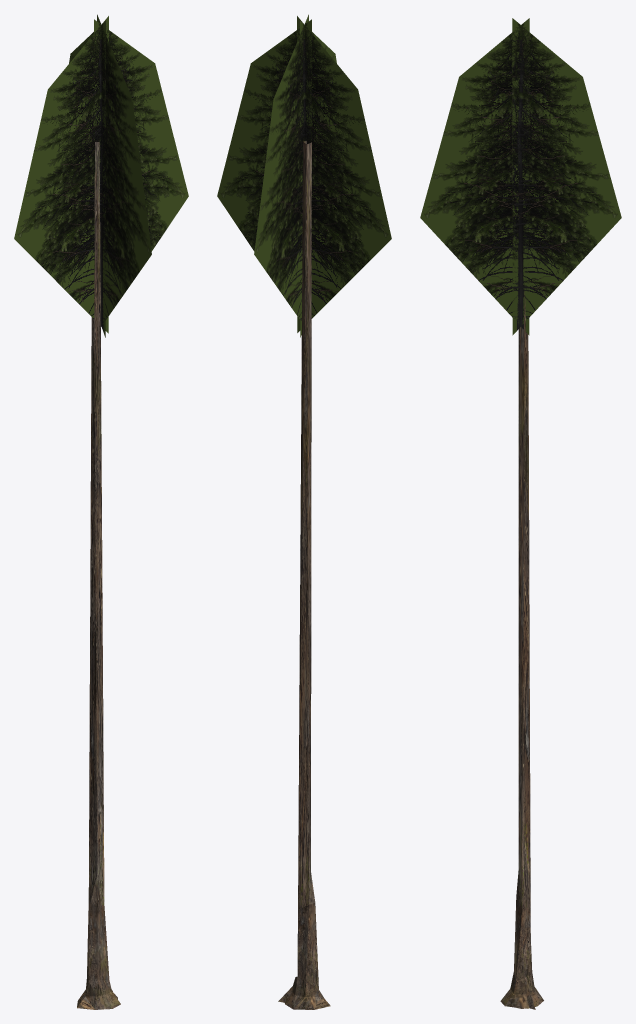
File: spruce_1_lod.dae
3 renders of one model, left to right at view 1: azimuth 30°, elevation 25°; view 2: azimuth 150°, elevation 25°; view 3: azimuth 270°, elevation 25°, orthographic.
Visible parts, largest first — view 1: Mesh_Object; view 2: Mesh_Object; view 3: Mesh_Object.
Part boxes in pixels (x1,y1,x2,y2): Mesh_Object: [14, 14, 188, 1009]; Mesh_Object: [217, 14, 391, 1009]; Mesh_Object: [420, 18, 621, 1009].
Bounding box in the file's own units: 3.37 × 18.12 × 3.37.
